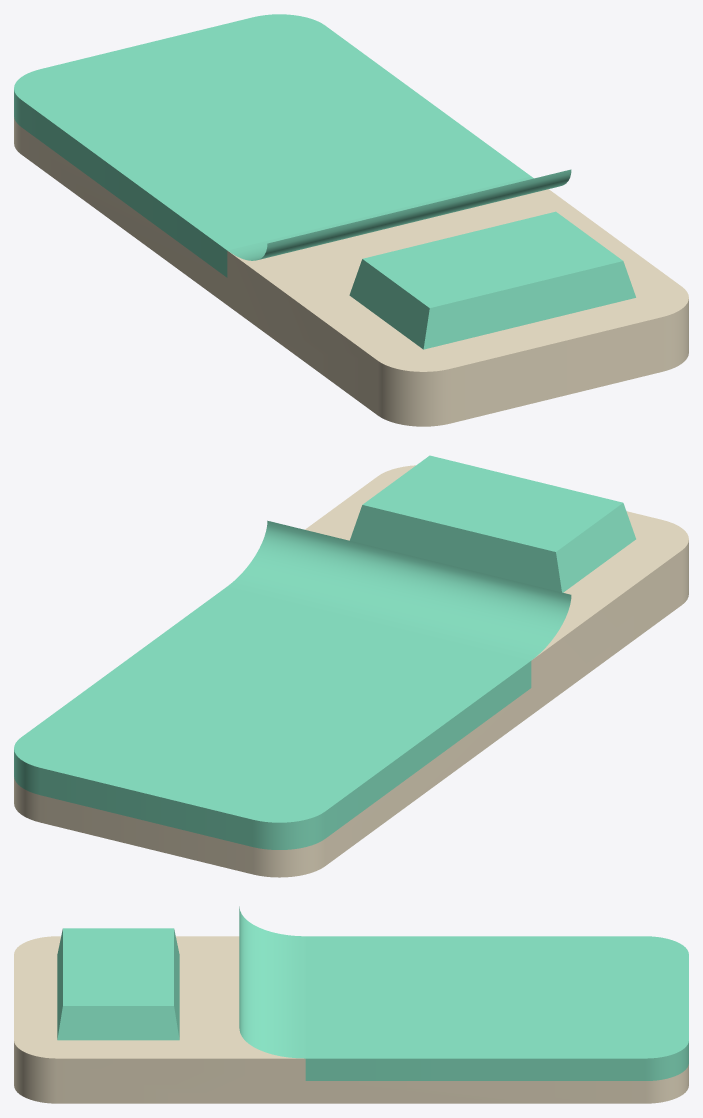
3 views of the same model, one above another, from view 1: azimuth 30°, elevation 25°; view 2: azimuth 150°, elevation 25°; view 3: azimuth 270°, elevation 25° (orthographic). The views are drawn at different scales.
Parts seen in each view (by area): view 1: bedroll; view 2: bedroll; view 3: bedroll.
Boxes of the visible parts, bbox=[...] form: bedroll: bbox=[14, 14, 688, 426]; bedroll: bbox=[14, 455, 688, 877]; bedroll: bbox=[14, 906, 688, 1103].
Size of the model in its own units: 0.2604 by 0.0748 by 0.6076.
